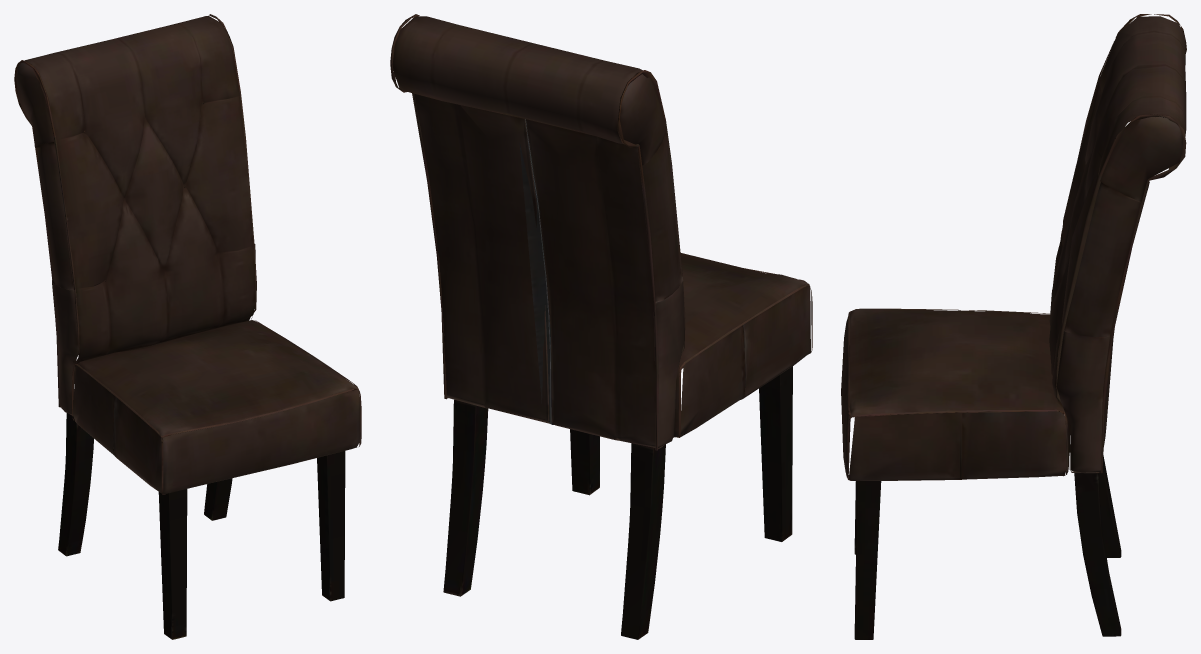
The model's file is dining_chair_02.low.glb.
3 views of the same model, side by side, from view 1: azimuth 30°, elevation 25°; view 2: azimuth 150°, elevation 25°; view 3: azimuth 270°, elevation 25° (orthographic). The views are drawn at different scales.
Visible parts, largest first — view 1: fabric, legs; view 2: fabric, legs; view 3: legs, fabric.
Boxes of the visible parts, x1,y1,x2,y2 form: fabric: (24, 16, 361, 494); legs: (14, 14, 345, 639); fabric: (392, 16, 812, 447); legs: (390, 14, 810, 639); legs: (848, 14, 1186, 639); fabric: (841, 16, 1186, 480).
Bounding box in the file's own units: 0.4297 × 0.9727 × 0.5749.
2 materials, 2 textured.
